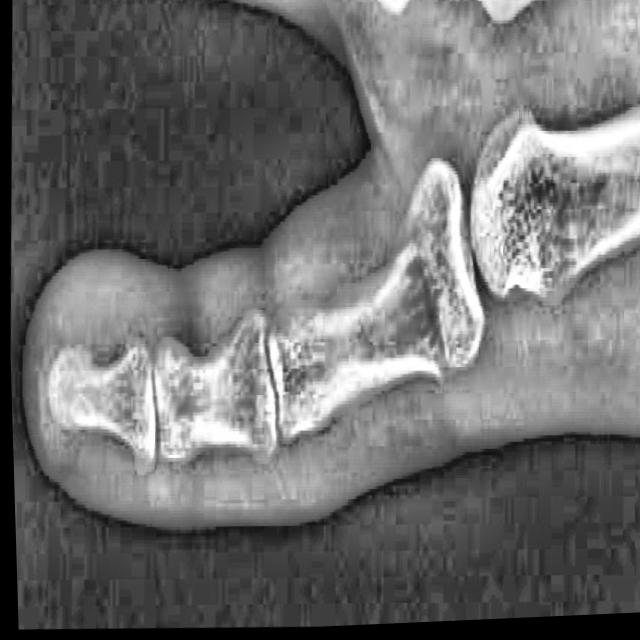fracture: (392, 219, 451, 399)
